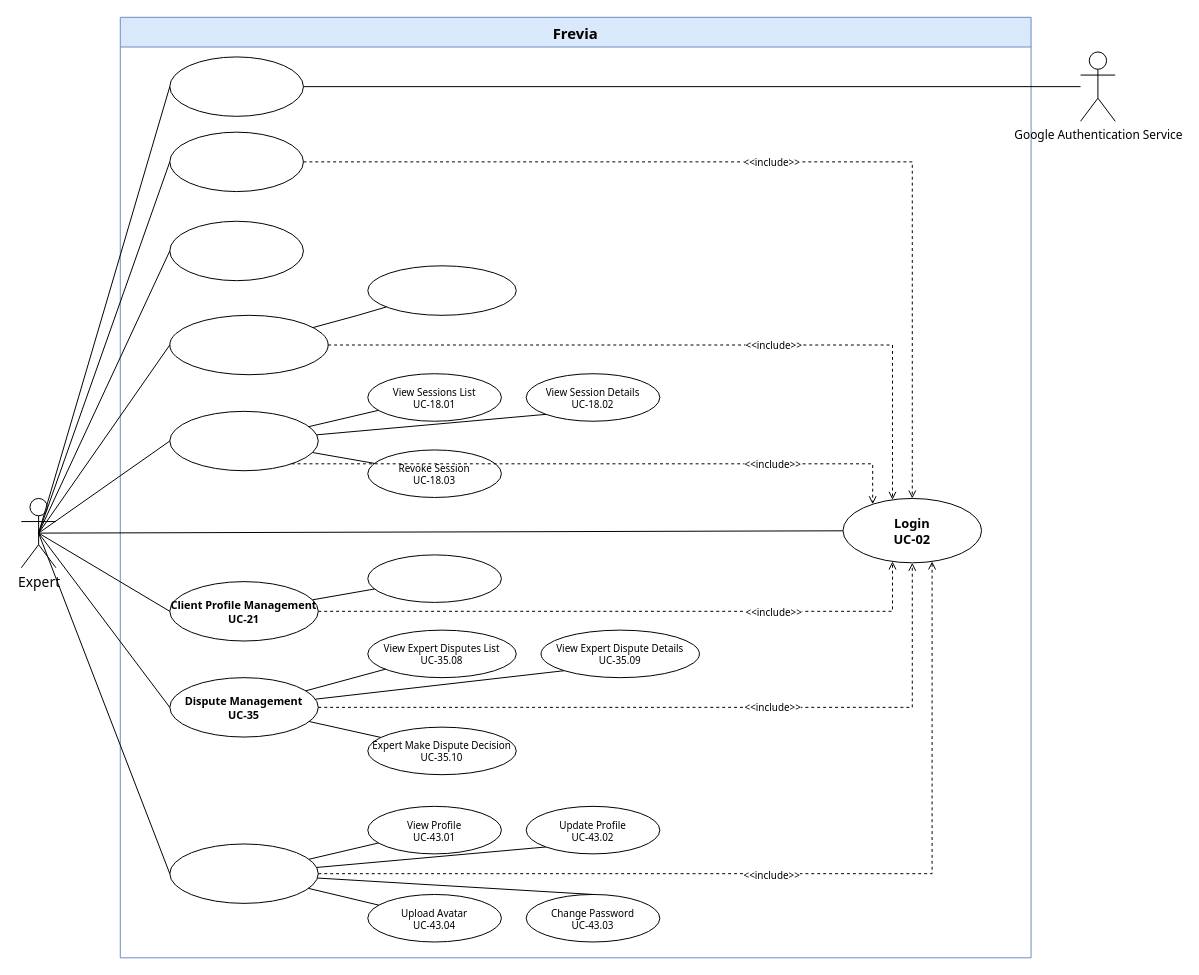
The diagram is 1199 pixels wide and 975 high, and some of its shapes have lost their labels. Each missing label, with the box of its shape:
Account Profile Management UC-43: (169, 843, 318, 903)
Forgot Password UC-05: (169, 220, 303, 281)
Login with Google UC-01: (169, 56, 303, 116)
Logout UC-03: (169, 131, 303, 192)
Profile Update Review UC-49: (169, 314, 328, 375)
Session Management UC-18: (169, 410, 318, 471)
Update Profile Expert UC-49.06: (367, 265, 516, 315)
View Client Profile UC-21.01: (367, 554, 501, 602)
